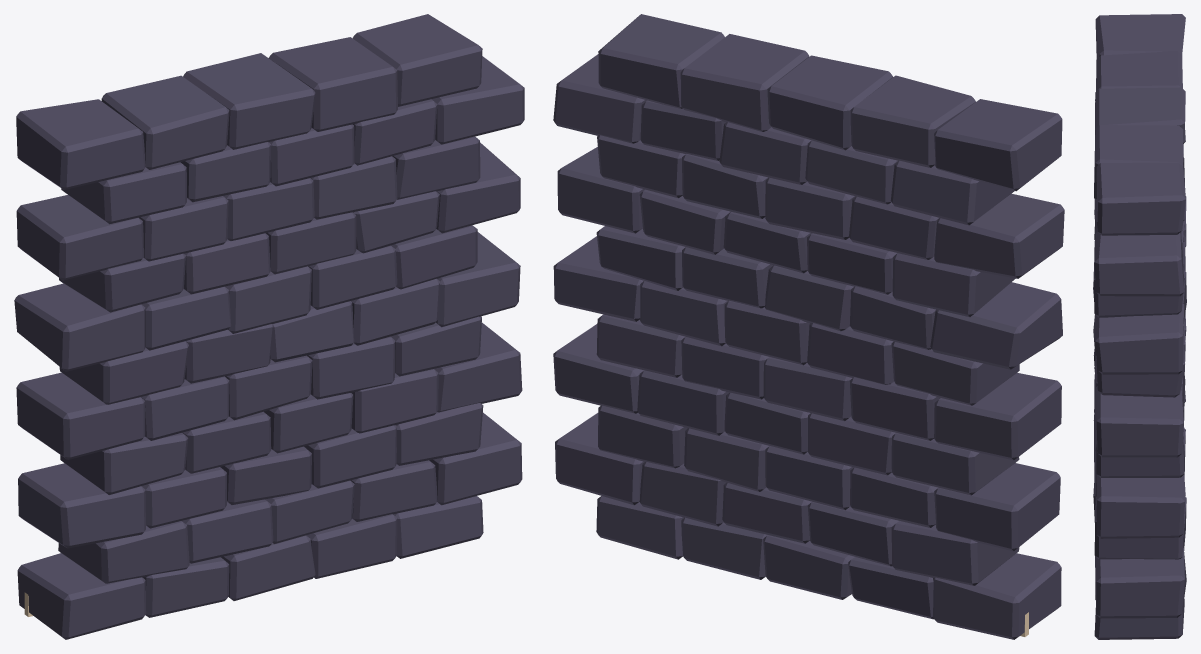
The model's file is Wall_Straight2.glb.
The picture shows the model from 3 angles, left to right: view 1: azimuth 30°, elevation 25°; view 2: azimuth 150°, elevation 25°; view 3: azimuth 270°, elevation 25°; orthographic projection. The views are drawn at different scales.
Parts seen in each view (by area): view 1: Cube; view 2: Cube; view 3: Cube.
Part boxes in pixels (box(x1,y1,x2,y2)): Cube: box(14, 14, 524, 639); Cube: box(553, 14, 1064, 639); Cube: box(1093, 14, 1186, 639).
Bounding box in the file's own units: 2.22 × 2.27 × 0.4307.
Materials: 3 (2 with a texture image).
